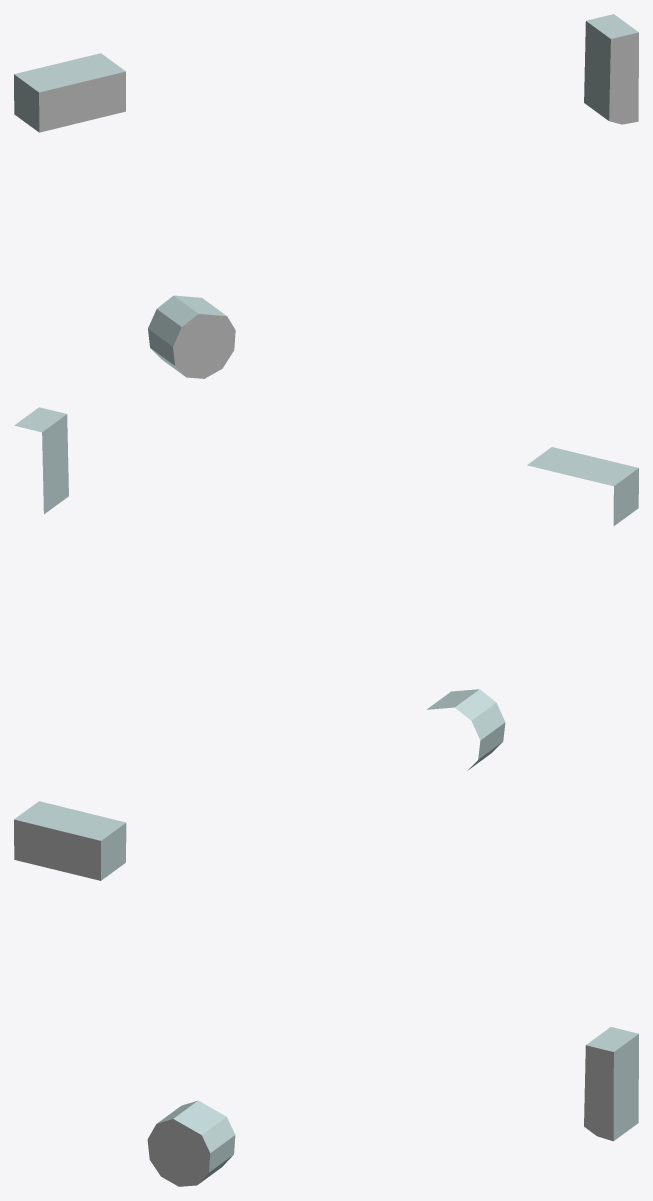
3 views of the same model, one above another, from view 1: azimuth 30°, elevation 25°; view 2: azimuth 150°, elevation 25°; view 3: azimuth 330°, elevation 25° (orthographic).
Parts seen in each view (by area): view 1: 0_2_2_1_3_0_3_3_3; view 2: 0_2_2_1_3_0_3_3_3; view 3: 0_2_2_1_3_0_3_3_3.
Part boxes in pixels (x1,y1,x2,y2): 0_2_2_1_3_0_3_3_3: (14,14,638,378); 0_2_2_1_3_0_3_3_3: (14,407,638,770); 0_2_2_1_3_0_3_3_3: (14,801,638,1186).
Bounding box in the file's own units: 41.4 × 21.55 × 3.04.
